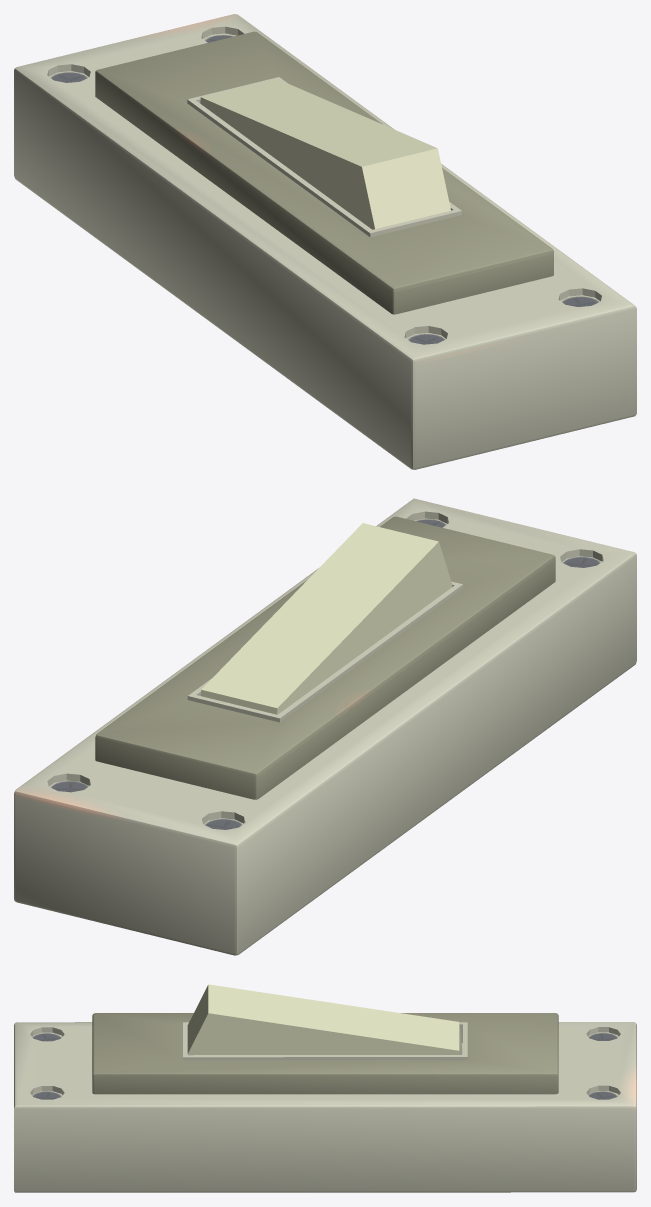
Rendered from Switch_Default.fbx.
The picture shows the model from 3 angles, top to bottom: view 1: azimuth 30°, elevation 25°; view 2: azimuth 150°, elevation 25°; view 3: azimuth 270°, elevation 25°; orthographic projection. The views are drawn at different scales.
Visible parts, largest first — view 1: Switch_Default, Cube_004, Switcher; view 2: Switch_Default, Cube_004, Switcher; view 3: Switch_Default, Cube_004, Switcher.
Boxes of the visible parts, x1,y1,x2,y2 form: Switch_Default: [14, 14, 636, 469]; Cube_004: [95, 31, 553, 314]; Switcher: [200, 78, 450, 229]; Switch_Default: [14, 498, 636, 955]; Cube_004: [95, 516, 555, 799]; Switcher: [201, 523, 452, 714]; Switch_Default: [14, 1022, 636, 1192]; Cube_004: [92, 1013, 558, 1094]; Switcher: [187, 984, 462, 1055].
Size of the model in its own units: 10 by 8.34 by 30.88.
1 material, 1 textured.
